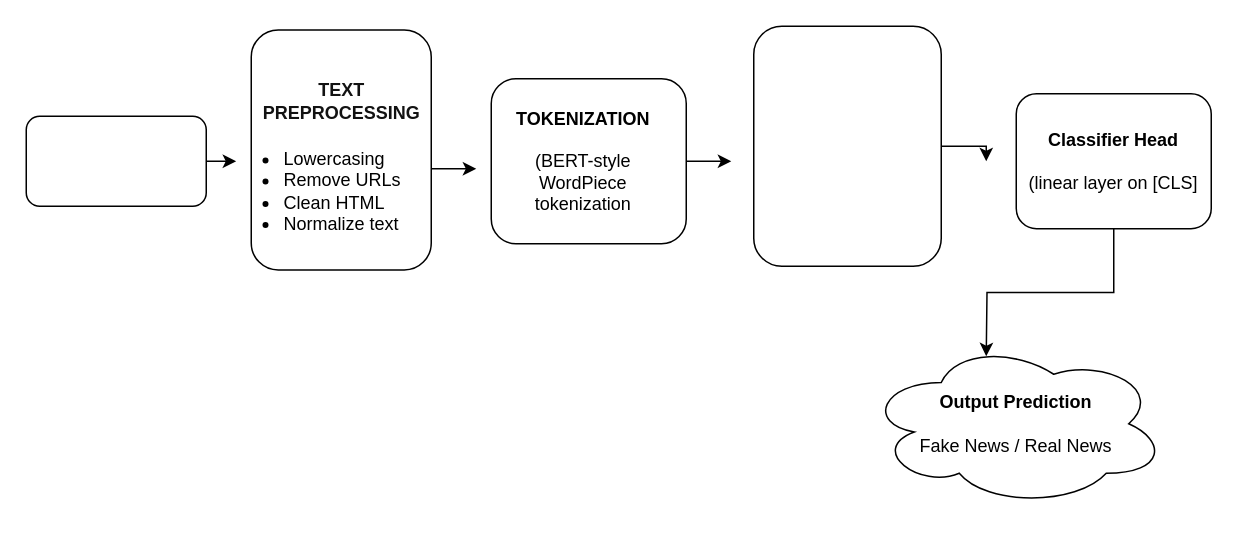
Some shapes in this 1238 by 533 pixel diagram are drawn without their labels. The box of each missing label's shape, as (x1, y1, x2, y2) in pixels:
PERT MODULE (Optional) LoRA Adapters Full fine-tuning: (752, 25, 941, 266)
RAW INPUT NEWS (Title + Body): (25, 115, 206, 206)
